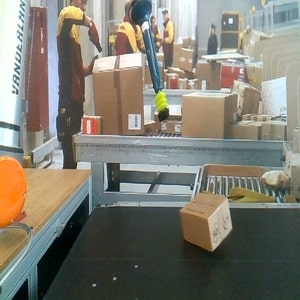box: (179, 191, 233, 253)
